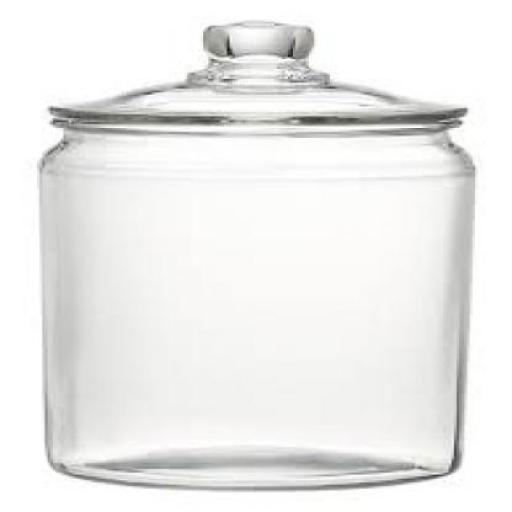glass: (35, 17, 475, 489)
